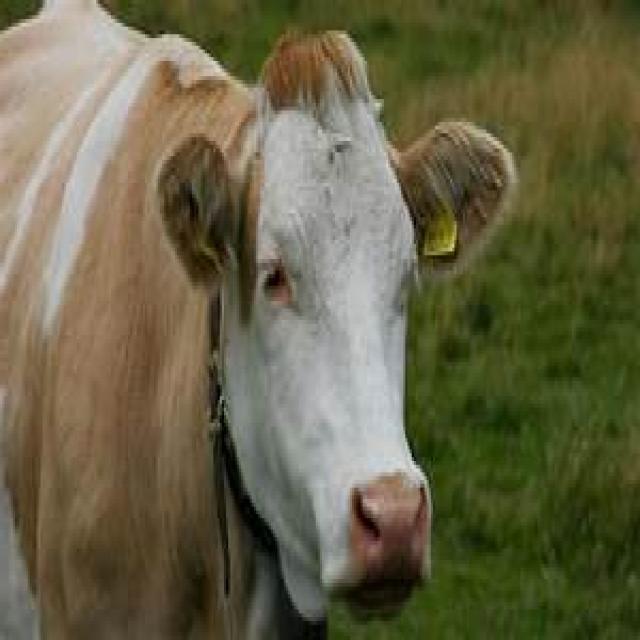animal: (2, 0, 520, 636)
